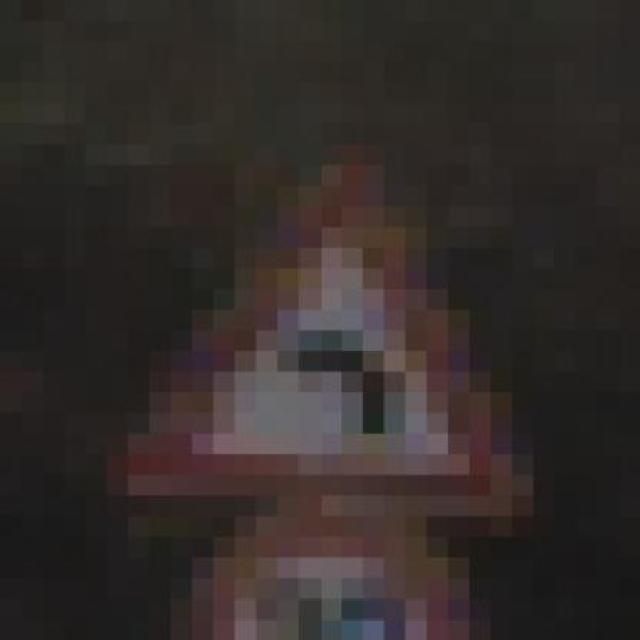Dangerous Left Curve Ahead: (107, 83, 555, 537)
